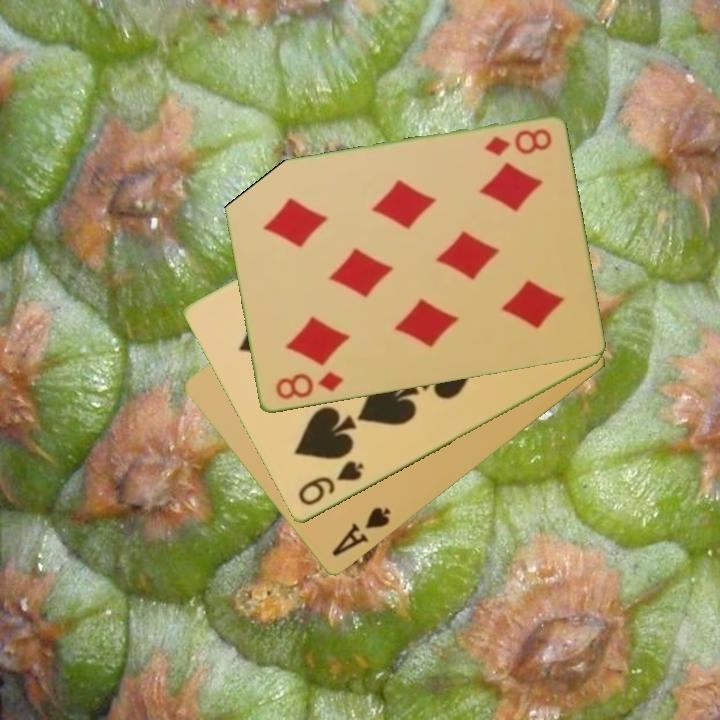8d: (272, 368, 346, 403), (481, 125, 555, 160)
9s: (294, 457, 367, 510)
As: (328, 504, 394, 560)
